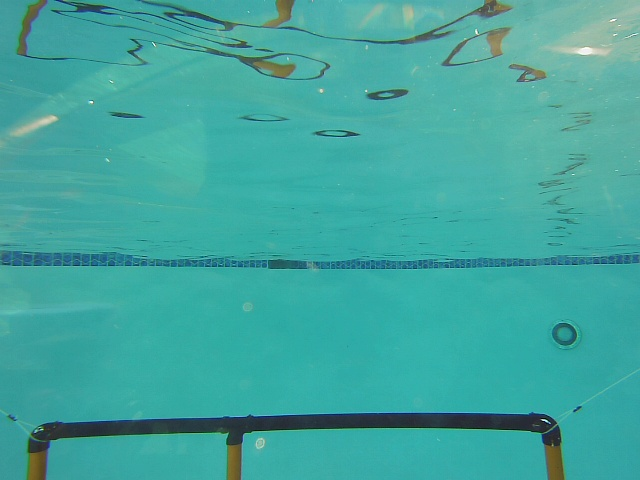Gate: (539, 434, 566, 480), (21, 444, 56, 479), (219, 436, 246, 480)
